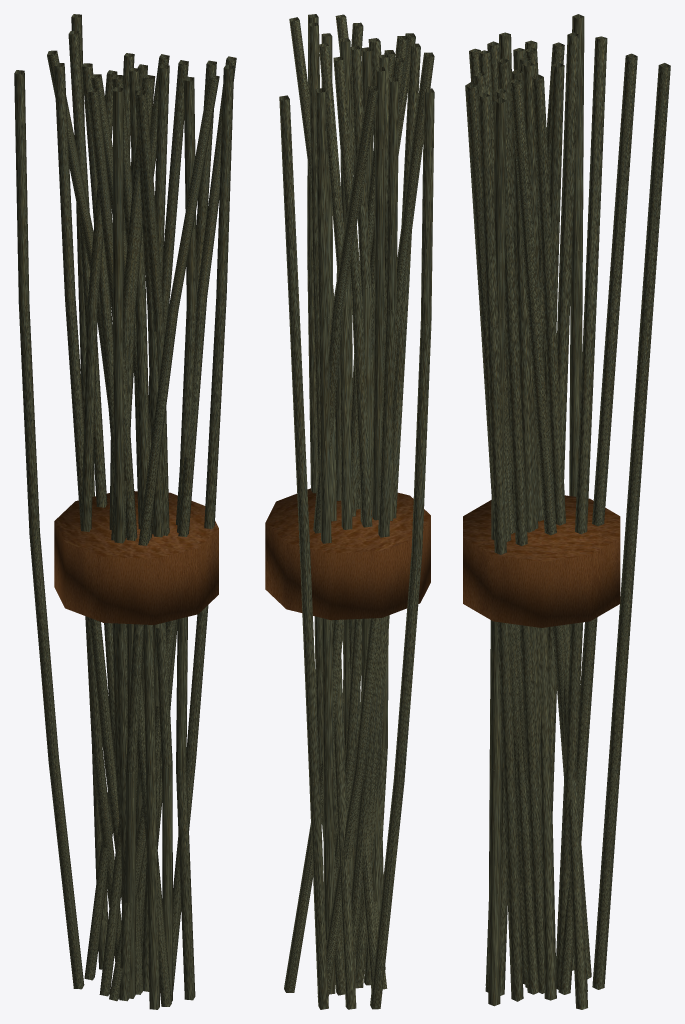
File: SM_Item_fiber.gltf
The picture shows the model from 3 angles, left to right: view 1: azimuth 30°, elevation 25°; view 2: azimuth 150°, elevation 25°; view 3: azimuth 270°, elevation 25°; orthographic projection.
Parts seen in each view (by area): view 1: SM_Item_fiber; view 2: SM_Item_fiber; view 3: SM_Item_fiber.
Part boxes in pixels (x1,y1,x2,y2): SM_Item_fiber: (14,14,236,1009); SM_Item_fiber: (265,14,434,1009); SM_Item_fiber: (463,14,670,1009).
Bounding box in the file's own units: 0.087 × 0.4208 × 0.0855.
2 materials, 2 textured.
